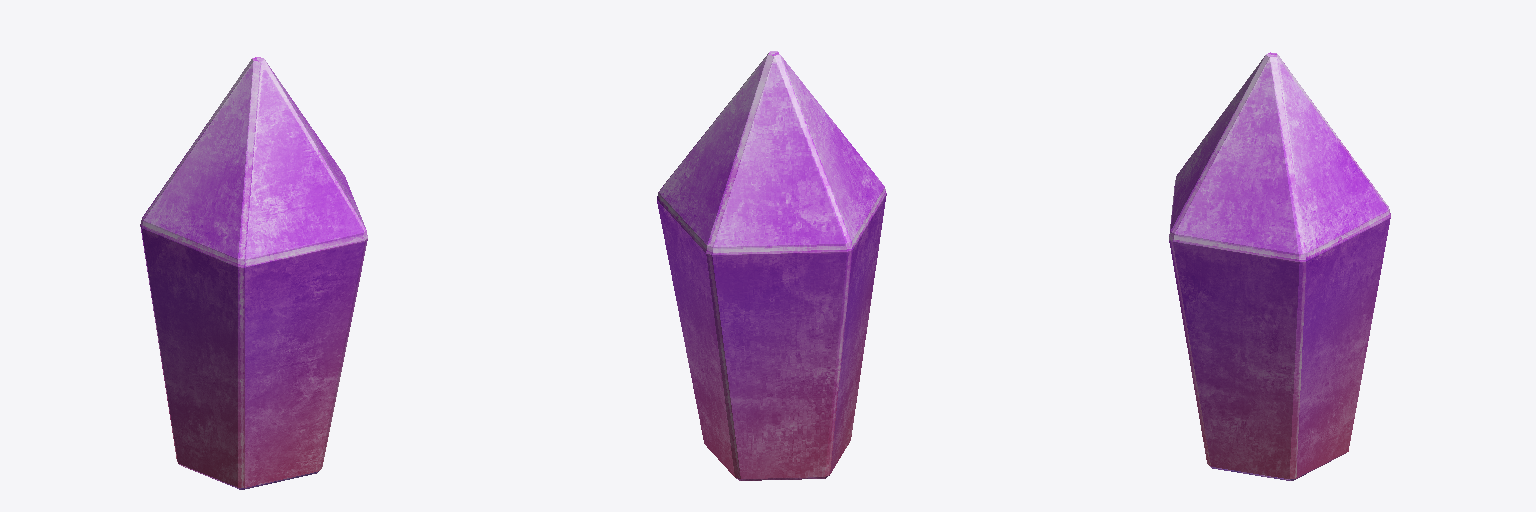
3 views of the same model, side by side, from view 1: azimuth 30°, elevation 25°; view 2: azimuth 150°, elevation 25°; view 3: azimuth 270°, elevation 25° (orthographic).
Bounding box in the file's own units: 0.7442 × 1.43 × 0.7179.
1 materials, 1 textured.